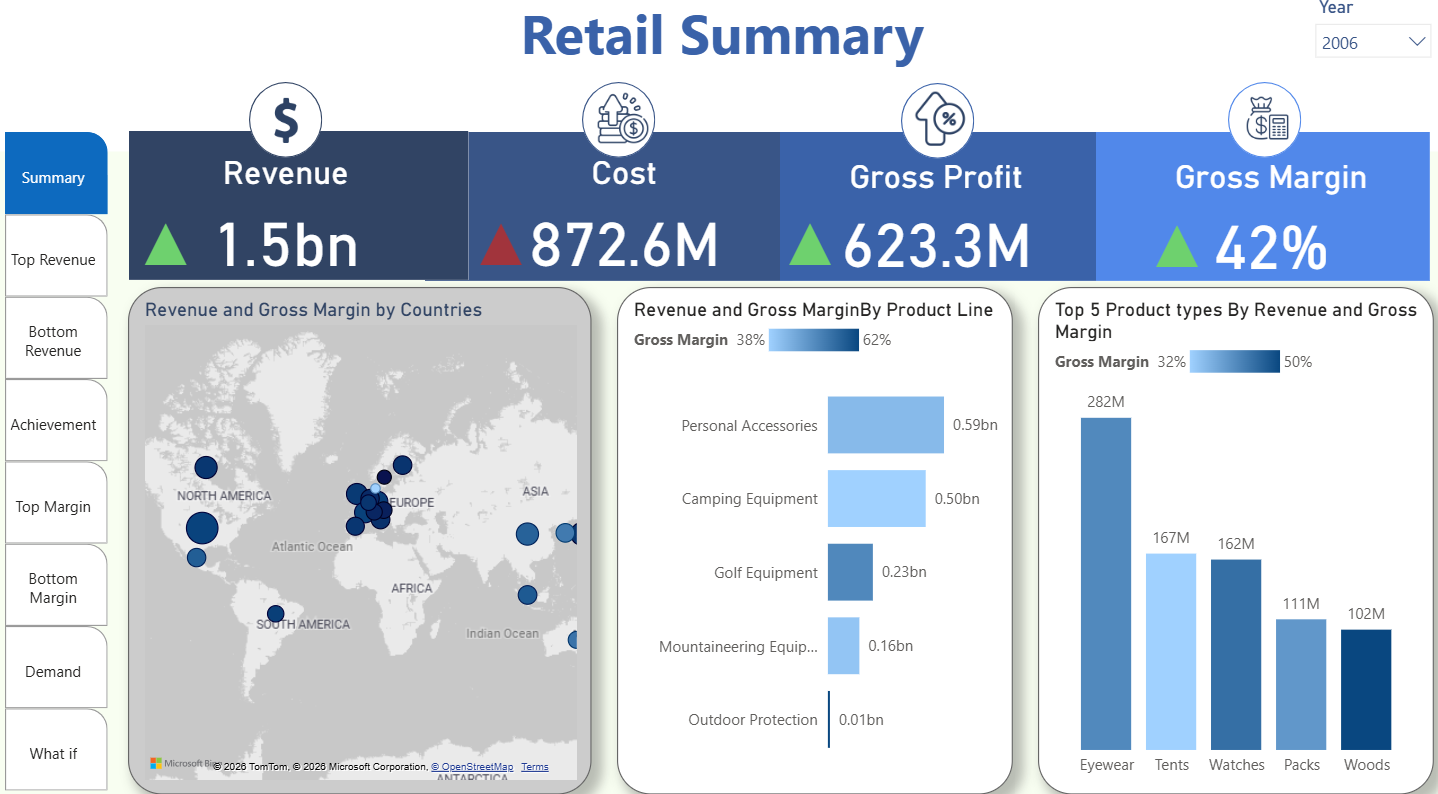

This screenshot's page, from the dashboard's own definition file:
{"tool":"powerbi","page":{"name":"Summary","canvas":[1280,720],"ordinal":0},"visuals":[{"type":"shape","box":[0,0,1279.9,143],"z":0},{"type":"shape","box":[376.4,125.8,326.1,132.2],"z":0,"group":"g1"},{"type":"shape","box":[691.5,125.8,300.8,132.2],"z":1000,"group":"g1"},{"type":"clusteredBarChart","title":"Revenue and Gross MarginBy Product Line","fields":{"Category":["Marketing Sales.Product line"],"Y":["Sum(Marketing Sales.Revenue)"]},"box":[546.9,262.9,351,449.8],"z":1000},{"type":"shape","box":[114.2,125.2,300.8,132.2],"z":2000,"group":"g1"},{"type":"map","title":"Revenue and Gross Margin by Countries ","fields":{"Category":["Marketing Sales.Retailer country"],"Size":["Sum(Marketing Sales.Revenue)"]},"box":[113.4,262.9,411.3,449.8],"z":2000},{"type":"shape","box":[971.4,125.8,296.4,132.2],"z":3000,"group":"g1"},{"type":"clusteredColumnChart","title":"Top 5 Product types By Revenue and Gross Margin","fields":{"Category":["Marketing Sales.Product type"],"Y":["Sum(Marketing Sales.Revenue)"]},"box":[920.2,262.9,351,449.8],"z":3000},{"type":"slicer","fields":{"Values":["Marketing Sales.Date.Variation.Date Hierarchy.Year"]},"box":[1156.4,0,123.5,108.8],"z":4000},{"type":"textbox","box":[266.5,0,746.9,81.9],"z":5000},{"type":"group","id":"g1","title":"Group 1","box":[114.2,125.2,1153.3,132.5],"z":5000,"group":"g3"},{"type":"card","title":"Revenue","fields":{"Values":["Sum(Marketing Sales.Revenue)"]},"box":[113.4,146.2,279.9,113.8],"z":5000,"group":"g2"},{"type":"pageNavigator","box":[4.1,125.9,91.7,587.3],"z":6000},{"type":"group","id":"g2","title":"Group 2","box":[113.4,146.2,1155.4,114.3],"z":6000,"group":"g3"},{"type":"card","title":"Cost","fields":{"Values":["Marketing Sales.Cost"]},"box":[405.6,146.2,295.3,113.8],"z":6000,"group":"g2"},{"type":"group","id":"g3","title":"Group 4","box":[113.4,82,1154.2,178.5],"z":7000},{"type":"shape","box":[220.5,82,65,67.1],"z":7000,"group":"g4"},{"type":"card","title":"Gross Margin","fields":{"Values":["Marketing Sales.Gross Margin"]},"box":[986.1,149.4,282.6,111.1],"z":7000,"group":"g2"},{"type":"group","id":"g4","title":"Group 3","box":[220.5,82,974,68.3],"z":8000,"group":"g3"},{"type":"image","box":[228.2,88.8,49.6,53.5],"z":8000,"group":"g4"},{"type":"card","title":"Gross Profit","fields":{"Values":["Sum(Marketing Sales.Gross profit)"]},"box":[691.6,149.4,277.2,108.9],"z":8000,"group":"g2"},{"type":"shape","box":[1088.3,82,65,67.1],"z":9000,"group":"g4"},{"type":"card","fields":{"Values":["Marketing Sales.Arrow rev"]},"box":[114.2,186.9,65.2,70.7],"z":9000,"group":"g3"},{"type":"shape","box":[798.6,83.1,65,67.1],"z":10000,"group":"g4"},{"type":"card","fields":{"Values":["Marketing Sales.Arrow cost"]},"box":[405.5,186.9,78.3,70.7],"z":10000,"group":"g3"},{"type":"shape","box":[515.4,82,65,67.1],"z":11000,"group":"g4"},{"type":"card","fields":{"Values":["Marketing Sales.Arrow Margin"]},"box":[1004.5,188,78.3,70.7],"z":11000,"group":"g3"},{"type":"image","box":[769.2,85.4,128.9,58],"z":12000,"group":"g4"},{"type":"card","fields":{"Values":["Marketing Sales.Arrow profit"]},"box":[679.2,186.6,78.2,70.5],"z":12000,"group":"g3"},{"type":"image","box":[524.6,86.6,55.1,54.6],"z":13000,"group":"g4"},{"type":"image","box":[1053.5,90,141,47.8],"z":14000,"group":"g4"}]}

Visuals, with their boxes on the page's 1280x720 design canvas (x1, y1, x2, y2). These are canvas units, not pixel positions in the 1438x794 screenshot, which may show the page scaled, cropped or inside an application window:
shape: (left=0, top=0, right=1280, bottom=143)
shape: (left=376, top=126, right=702, bottom=258)
shape: (left=692, top=126, right=992, bottom=258)
"Revenue and Gross MarginBy Product Line" clusteredBarChart: (left=547, top=263, right=898, bottom=713)
shape: (left=114, top=125, right=415, bottom=257)
"Revenue and Gross Margin by Countries " map: (left=113, top=263, right=525, bottom=713)
shape: (left=971, top=126, right=1268, bottom=258)
"Top 5 Product types By Revenue and Gross Margin" clusteredColumnChart: (left=920, top=263, right=1271, bottom=713)
slicer - Marketing Sales.Date.Variation.Date Hierarchy.Year: (left=1156, top=0, right=1280, bottom=109)
textbox: (left=266, top=0, right=1013, bottom=82)
"Group 1" group: (left=114, top=125, right=1268, bottom=258)
"Revenue" card: (left=113, top=146, right=393, bottom=260)
pageNavigator: (left=4, top=126, right=96, bottom=713)
"Group 2" group: (left=113, top=146, right=1269, bottom=260)
"Cost" card: (left=406, top=146, right=701, bottom=260)
"Group 4" group: (left=113, top=82, right=1268, bottom=260)
shape: (left=220, top=82, right=286, bottom=149)
"Gross Margin" card: (left=986, top=149, right=1269, bottom=260)
"Group 3" group: (left=220, top=82, right=1194, bottom=150)
image: (left=228, top=89, right=278, bottom=142)
"Gross Profit" card: (left=692, top=149, right=969, bottom=258)
shape: (left=1088, top=82, right=1153, bottom=149)
card - Marketing Sales.Arrow rev: (left=114, top=187, right=179, bottom=258)
shape: (left=799, top=83, right=864, bottom=150)
card - Marketing Sales.Arrow cost: (left=406, top=187, right=484, bottom=258)
shape: (left=515, top=82, right=580, bottom=149)
card - Marketing Sales.Arrow Margin: (left=1004, top=188, right=1083, bottom=259)
image: (left=769, top=85, right=898, bottom=143)
card - Marketing Sales.Arrow profit: (left=679, top=187, right=757, bottom=257)
image: (left=525, top=87, right=580, bottom=141)
image: (left=1054, top=90, right=1194, bottom=138)
